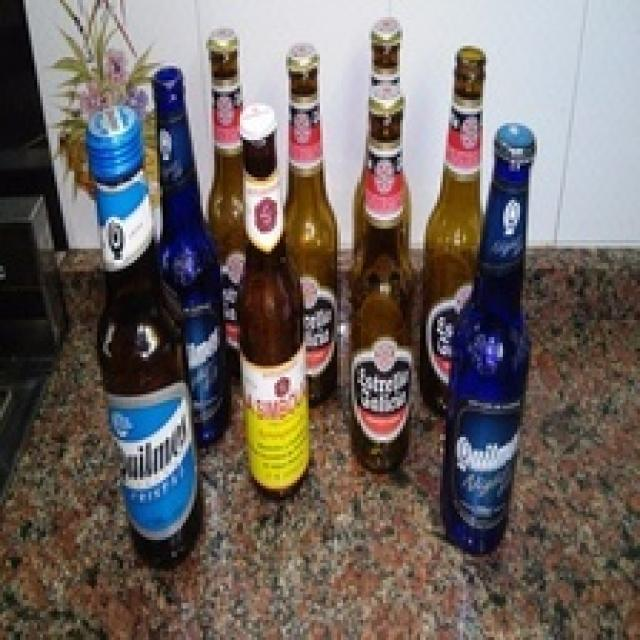Glass: (94, 158, 210, 568), (438, 154, 534, 556), (417, 47, 486, 420), (346, 116, 418, 472), (239, 141, 307, 502), (159, 97, 226, 440), (285, 72, 341, 403), (207, 52, 250, 386)
